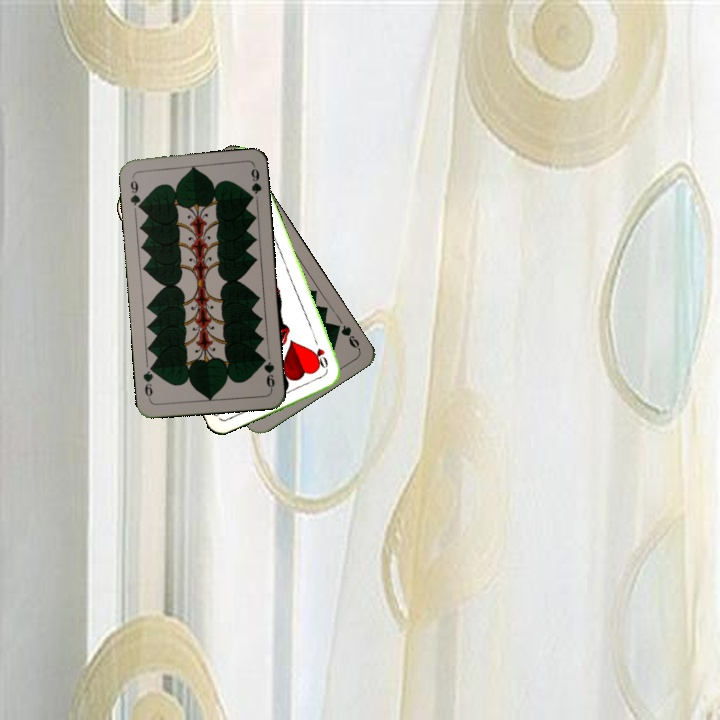G9: (330, 320, 363, 352), (257, 352, 277, 392), (126, 173, 145, 213)
HO: (310, 334, 331, 374)
